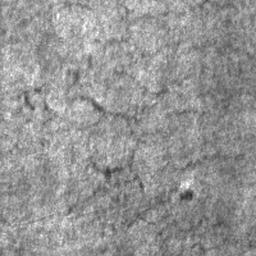Crazing: (0, 0, 256, 255), (0, 0, 94, 36), (246, 226, 256, 250), (198, 111, 208, 121)
